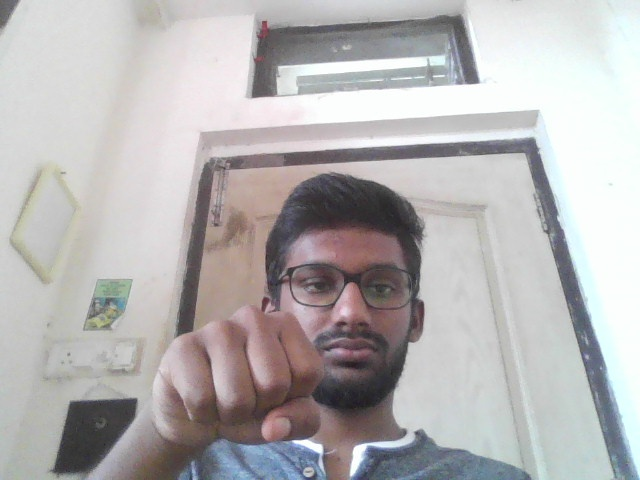No: (147, 303, 325, 453)
